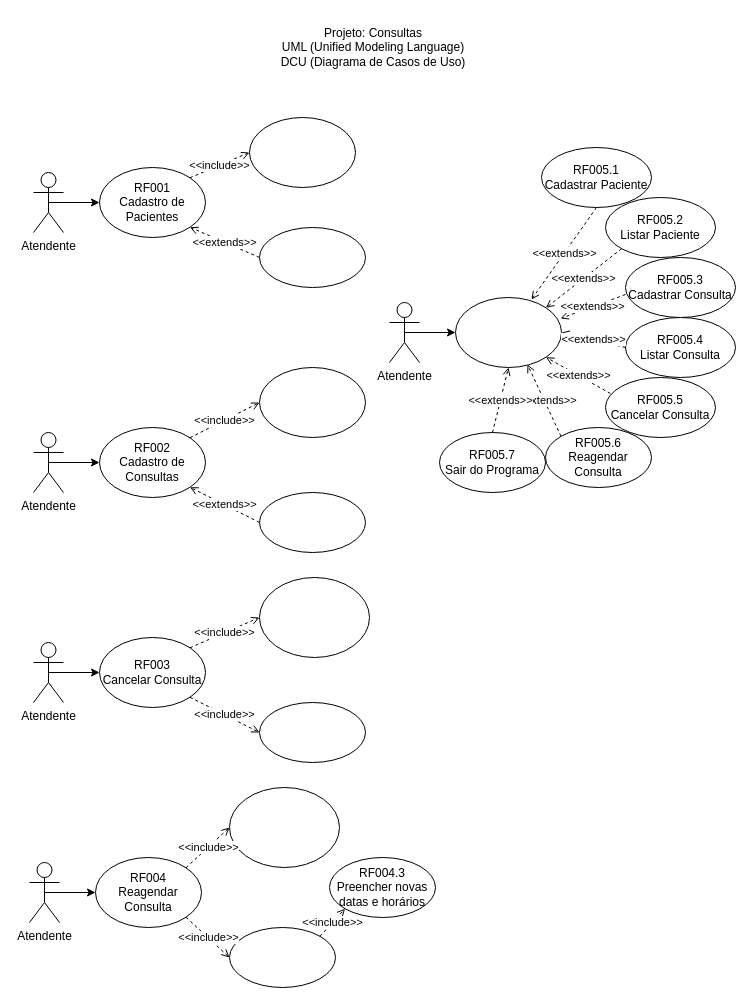
Image size: 753x1005. Some labels were removed from this diagram. Each missing label, with the centre of its shape:
RF001.1 Validar duplicados pelo CPF: point (302, 152)
RF001.2 Listar todos: point (312, 257)
RF002.1 Verificar se o CPF está cadastrado: point (312, 402)
RF002.2 Listar todas: point (312, 522)
RF003.1 Listar por CPF e mostrar índices: point (314, 617)
RF003.2 Digitar o índice: point (312, 732)
RF004.1 Listar por CPF e mostrar índices: point (284, 827)
RF004.2 Digitar o índice: point (282, 957)
RF005 Escolher opções do menu: point (508, 332)
